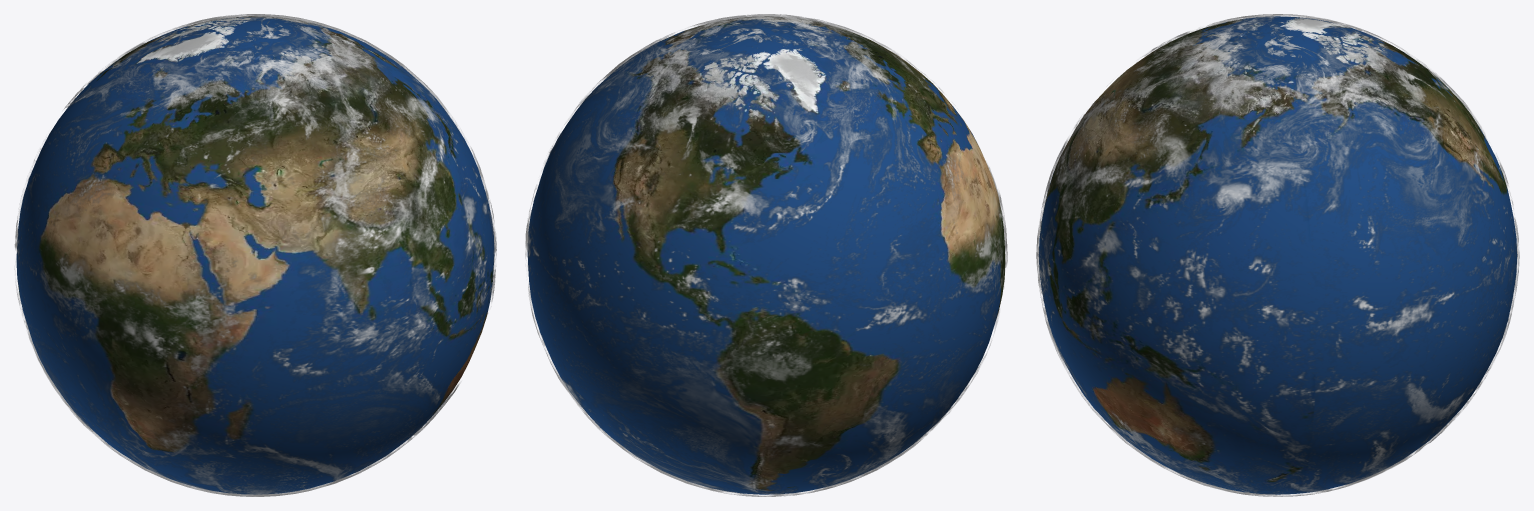
The model's file is AdobeStock_360352848_earth.glb.
The picture shows the model from 3 angles, left to right: view 1: azimuth 30°, elevation 25°; view 2: azimuth 150°, elevation 25°; view 3: azimuth 270°, elevation 25°; orthographic projection.
Parts seen in each view (by area): view 1: earth_GEO, clouds_GEO; view 2: earth_GEO, clouds_GEO; view 3: earth_GEO, clouds_GEO.
Boxes of the visible parts, x1=… form: earth_GEO: x1=16, y1=16, x2=494, y2=494; clouds_GEO: x1=15, y1=14, x2=496, y2=496; earth_GEO: x1=527, y1=16, x2=1005, y2=494; clouds_GEO: x1=525, y1=14, x2=1007, y2=496; earth_GEO: x1=1038, y1=16, x2=1517, y2=494; clouds_GEO: x1=1036, y1=14, x2=1519, y2=496.
Size of the model in its own units: 11.07 by 11.07 by 11.07.
Materials: 2 (2 with a texture image).
